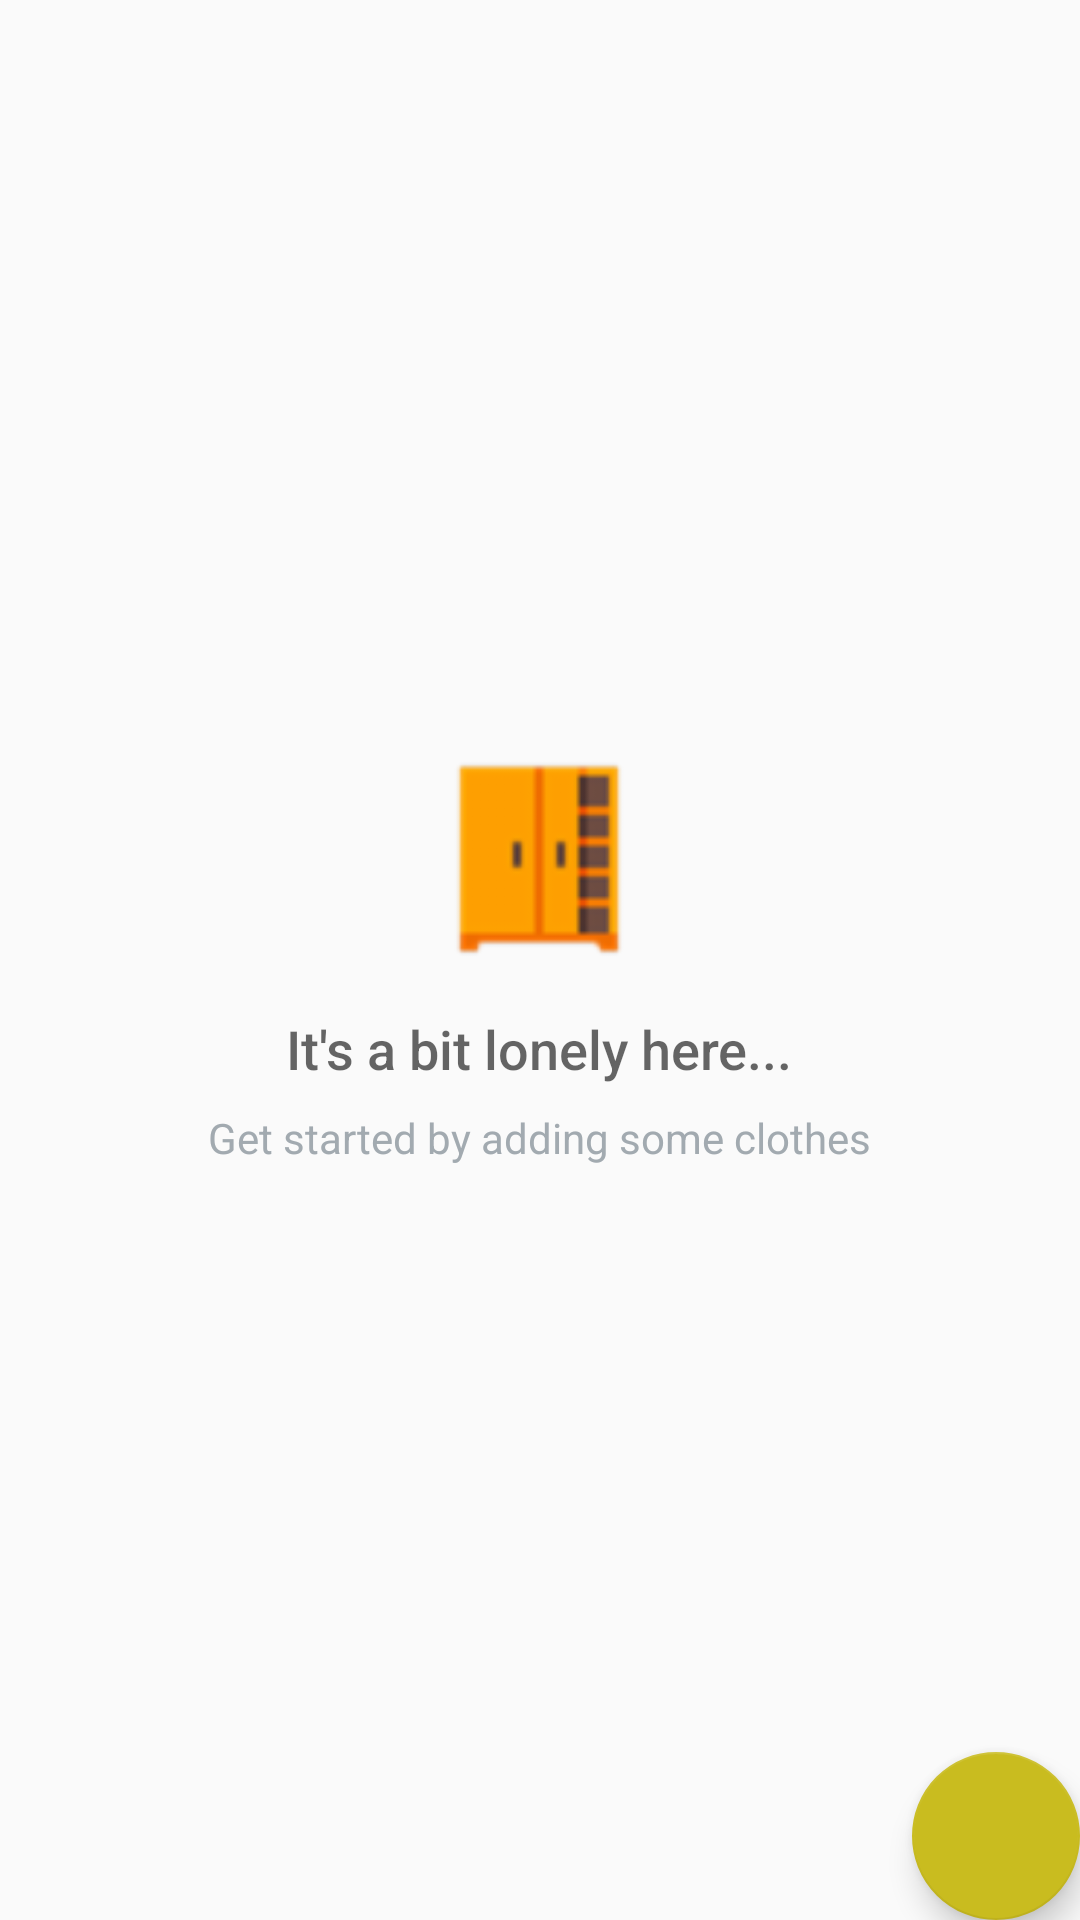

Where icons sit on this 1080 x 1920 app screen, as (x1, y1, x2, y2):
closet: (457, 765, 621, 953)
